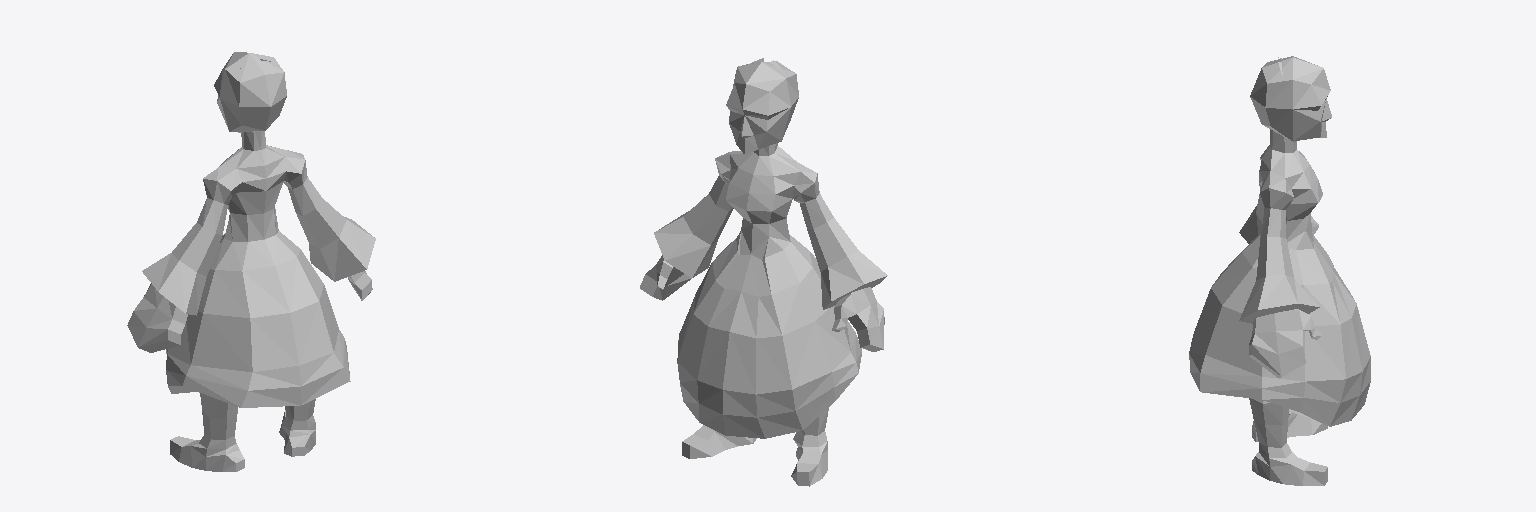
The model's file is vampirah.obj.
The picture shows the model from 3 angles: view 1: azimuth 30°, elevation 25°; view 2: azimuth 150°, elevation 25°; view 3: azimuth 270°, elevation 25°; orthographic projection.
Visible parts, largest first — view 1: vampyr; view 2: vampyr; view 3: vampyr.
Part boxes in pixels (x1,y1,x2,y2): vampyr: (127,52,375,471); vampyr: (640,58,887,486); vampyr: (1189,56,1370,485).
Size of the model in its own units: 2.18 by 3.53 by 1.46.